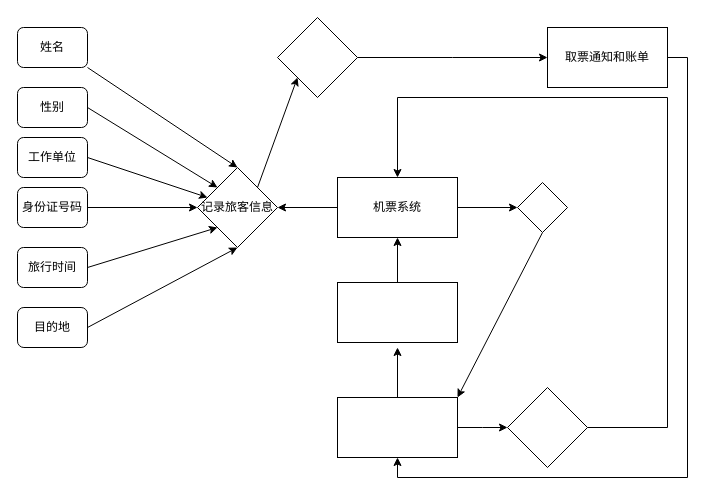
Image size: 713x503. Some labels were removed from this diagram. The shapes that lost their labels are listed below. From the top down, each one's centre as x and y in pixels, then its label:
point 317,57: 安排航班
point 542,207: 审核
point 397,312: 旅行社
point 397,427: 旅客
point 547,427: 取票
